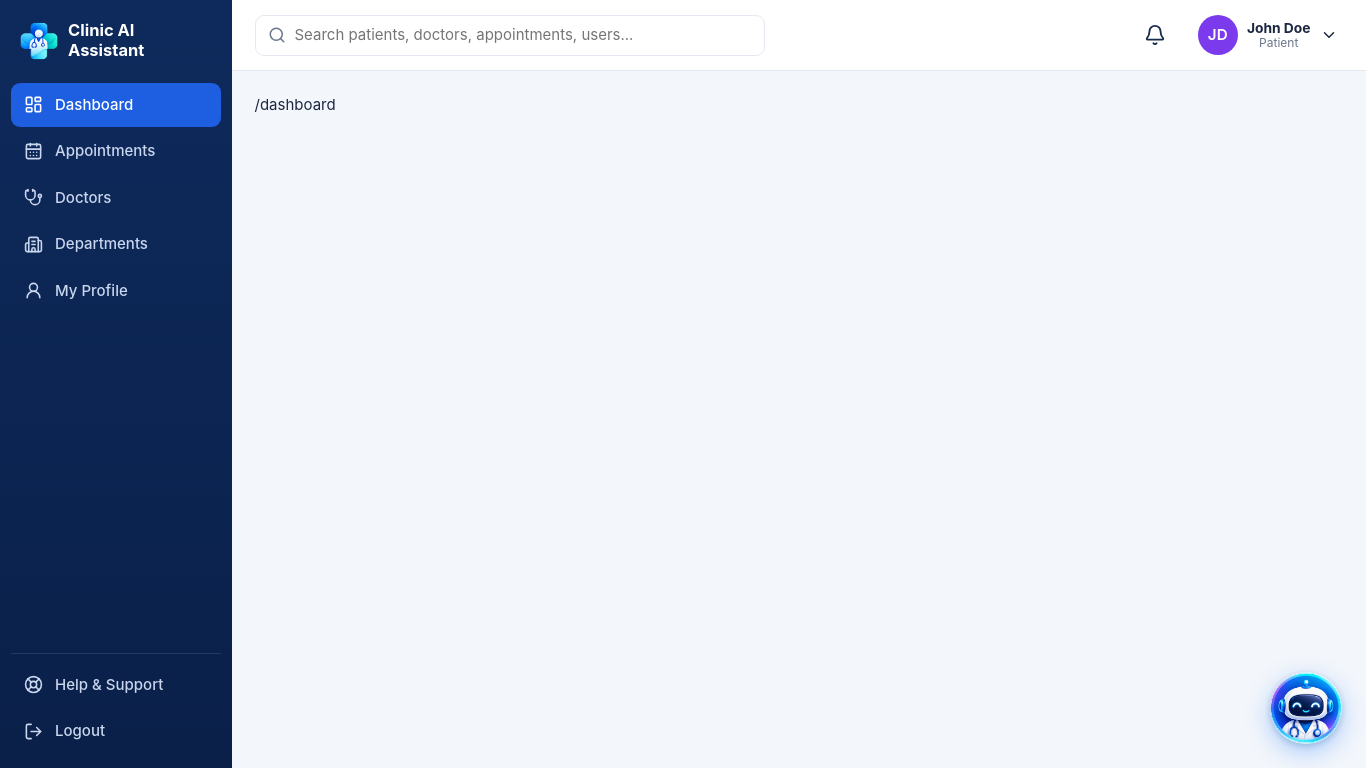
Test: shell behaviour › the bell says when there is nothing
Click the button named "Notifications".
click(1155, 35)  # box [1133,13,1177,57]
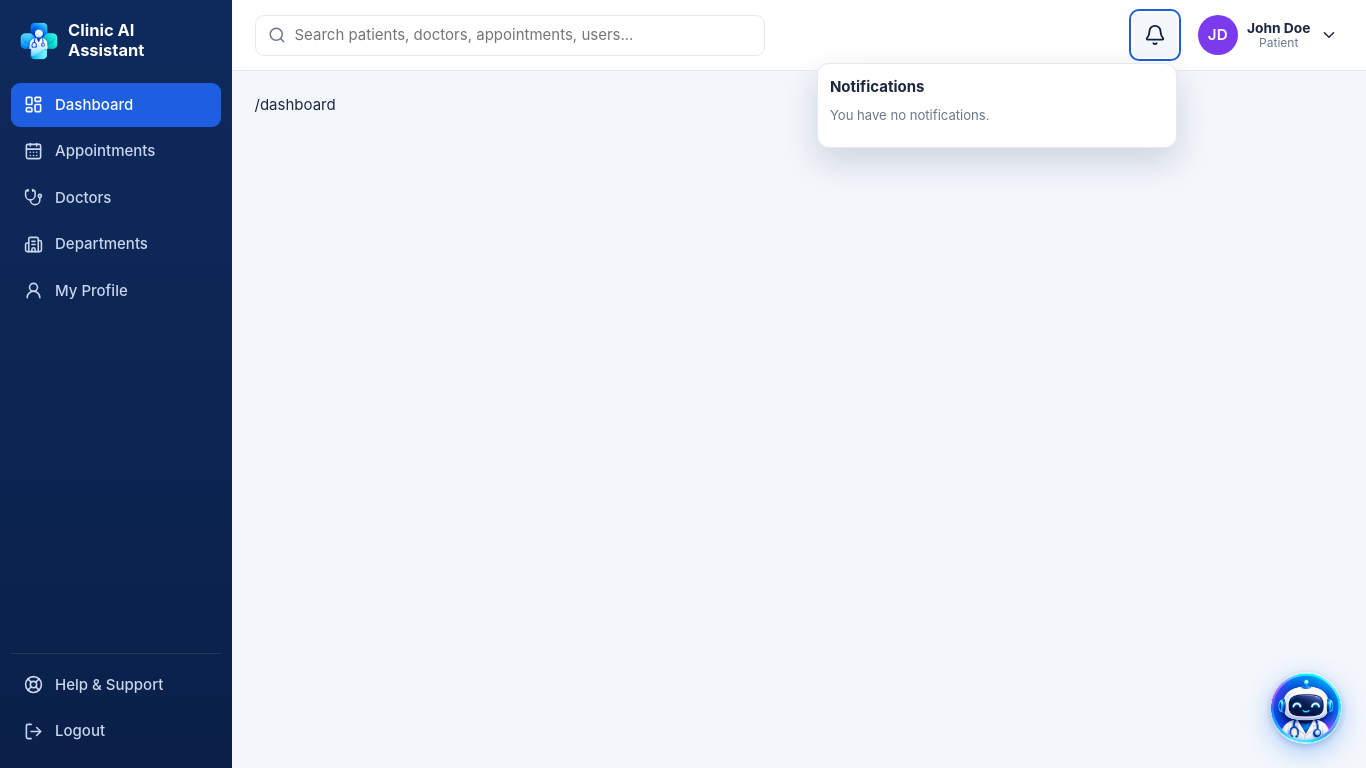
expect the text "You have no notifications." is shown: met, box [830,107,990,123]
